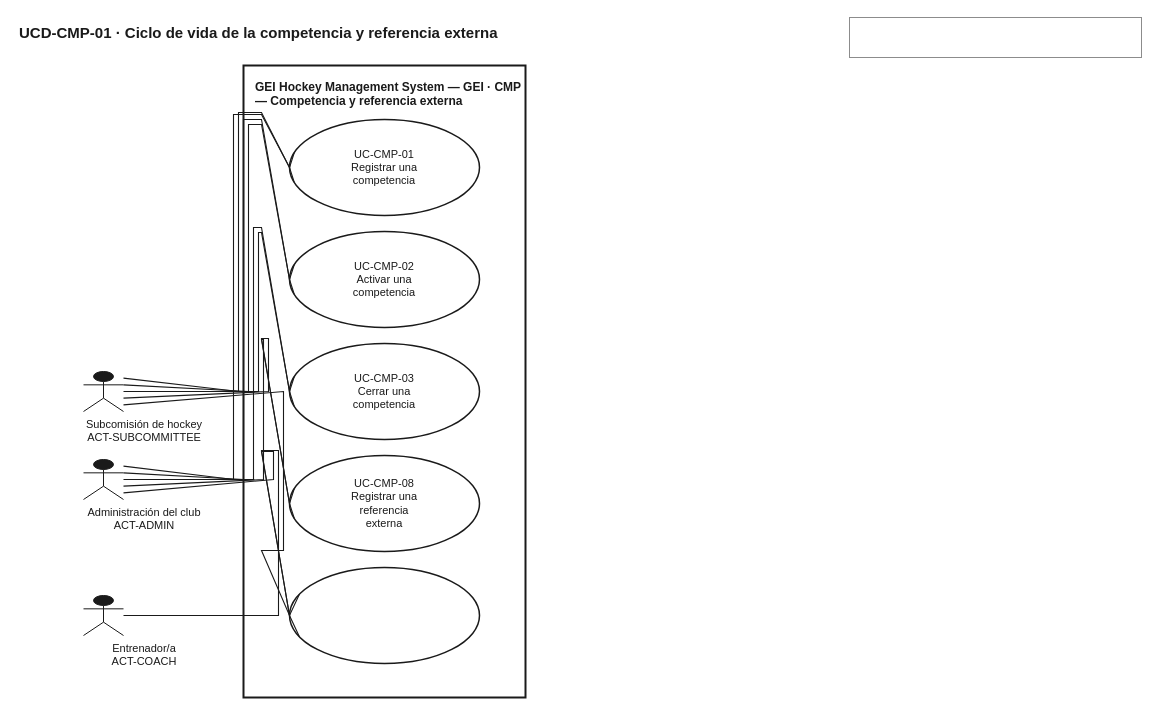
Some shapes in this 1159 by 716 pixel diagram are drawn without their labels. Each missing label, with the centre of its shape:
"Gestión sensible: reautenticación [REAUTHENTICATION_REQUIRED]." goes at (995,37).
"UC-CMP-09 Consultar una referencia externa" goes at (384,615).
